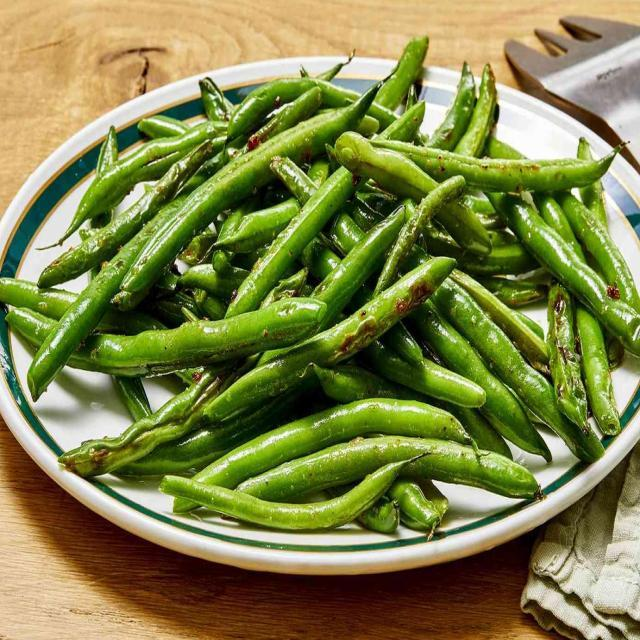Beans: (0, 27, 639, 537)
